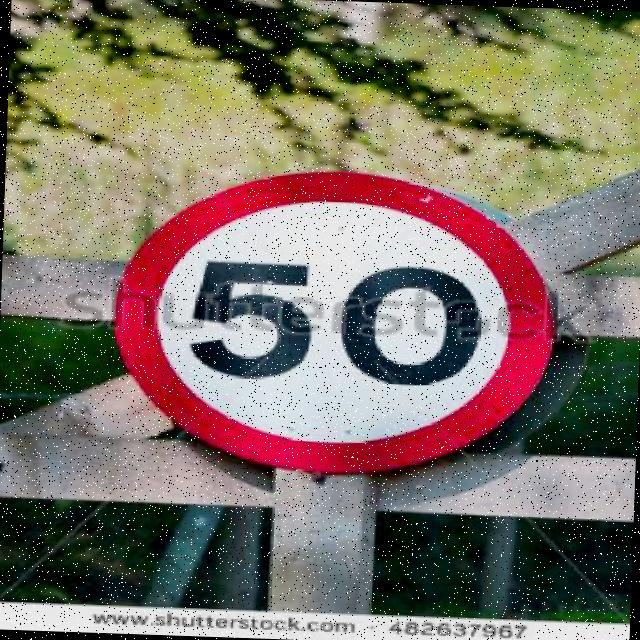Ograniczenie predkosci do 50: (138, 183, 534, 462)
